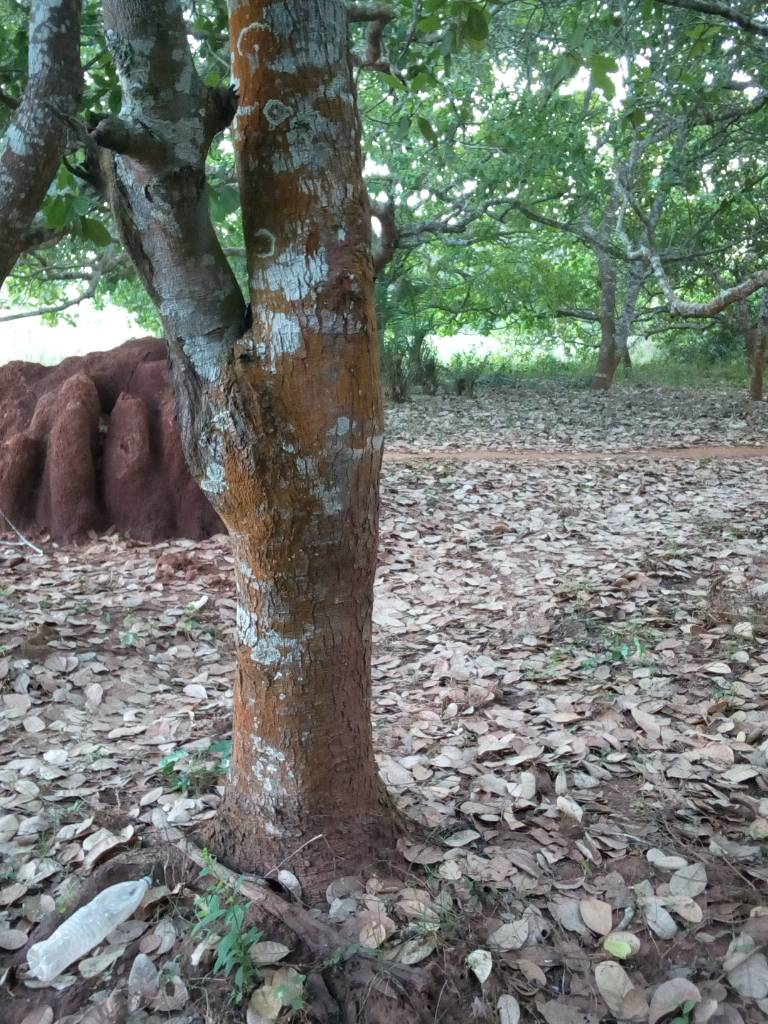Termites: (5, 360, 188, 532), (319, 575, 377, 835)
